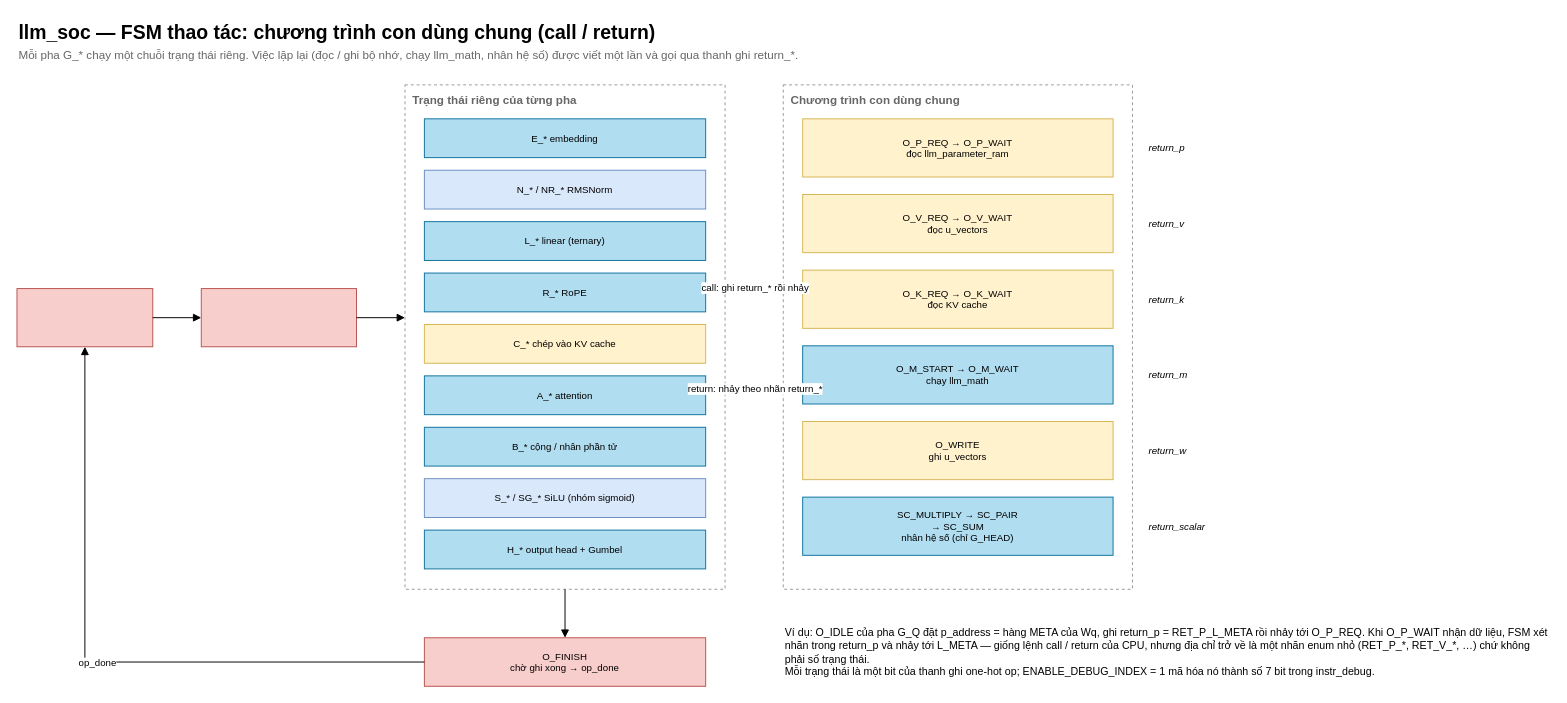
Some shapes in this 1567 by 703 pixel diagram are drawn without their labels. The shapes that lost their labels are listed below. From the top down, each one's centre as x and y in pixels, then its label:
At pixel 84 317: "FSM đồ thị op_start (pha)".
At pixel 278 317: "O_IDLE chọn bước đầu theo pha".
